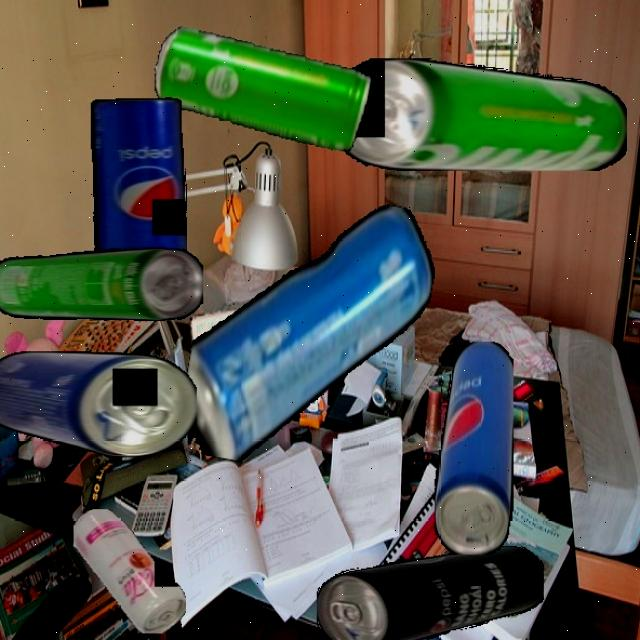debris: (174, 176, 444, 489), (331, 57, 627, 171), (147, 22, 374, 154), (317, 545, 544, 640), (0, 352, 197, 458), (434, 340, 514, 554), (90, 97, 187, 266), (0, 248, 203, 321), (73, 508, 186, 634)
